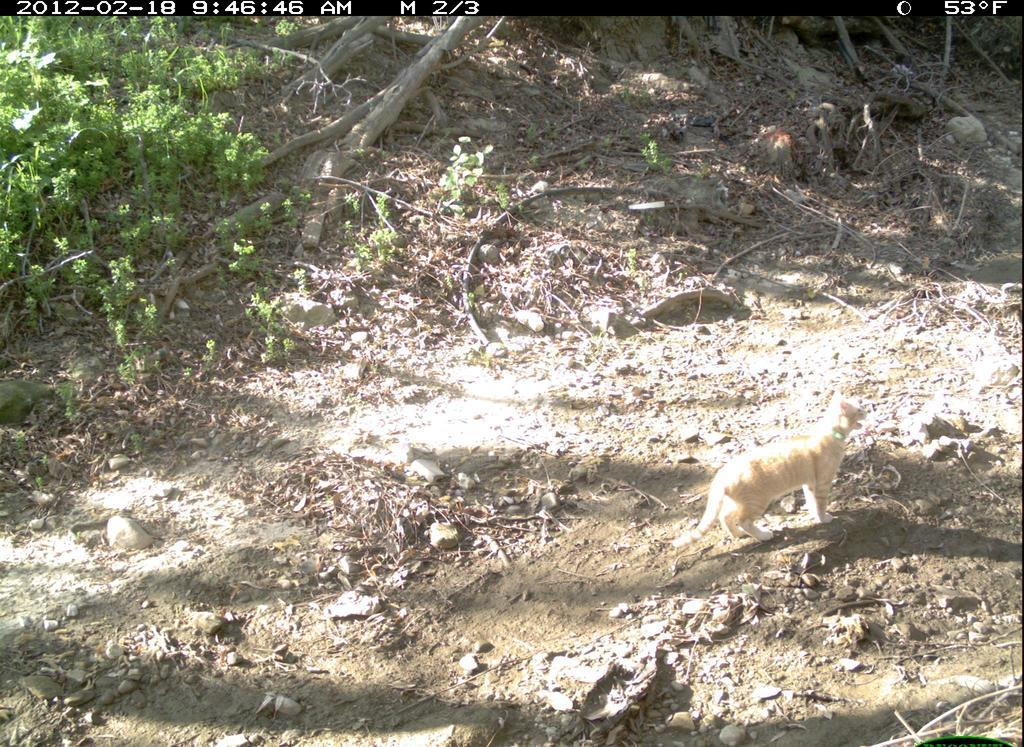cat: (663, 378, 877, 553)
